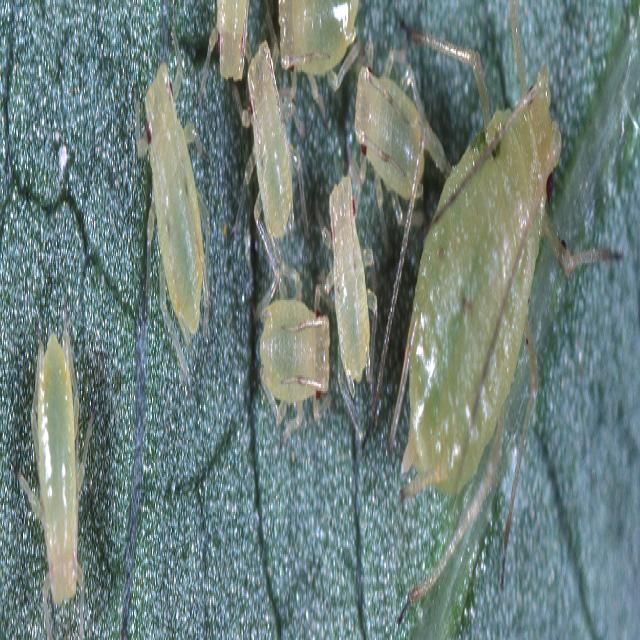Aphid-Grown-: (385, 58, 576, 562), (121, 28, 215, 370), (243, 252, 342, 493), (20, 294, 94, 612), (343, 30, 444, 238), (324, 154, 390, 432), (238, 23, 299, 272)
